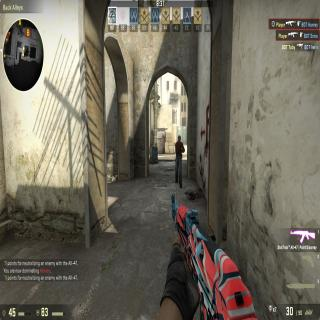T-Body: (174, 134, 184, 188)
T-Head: (177, 134, 181, 142)
